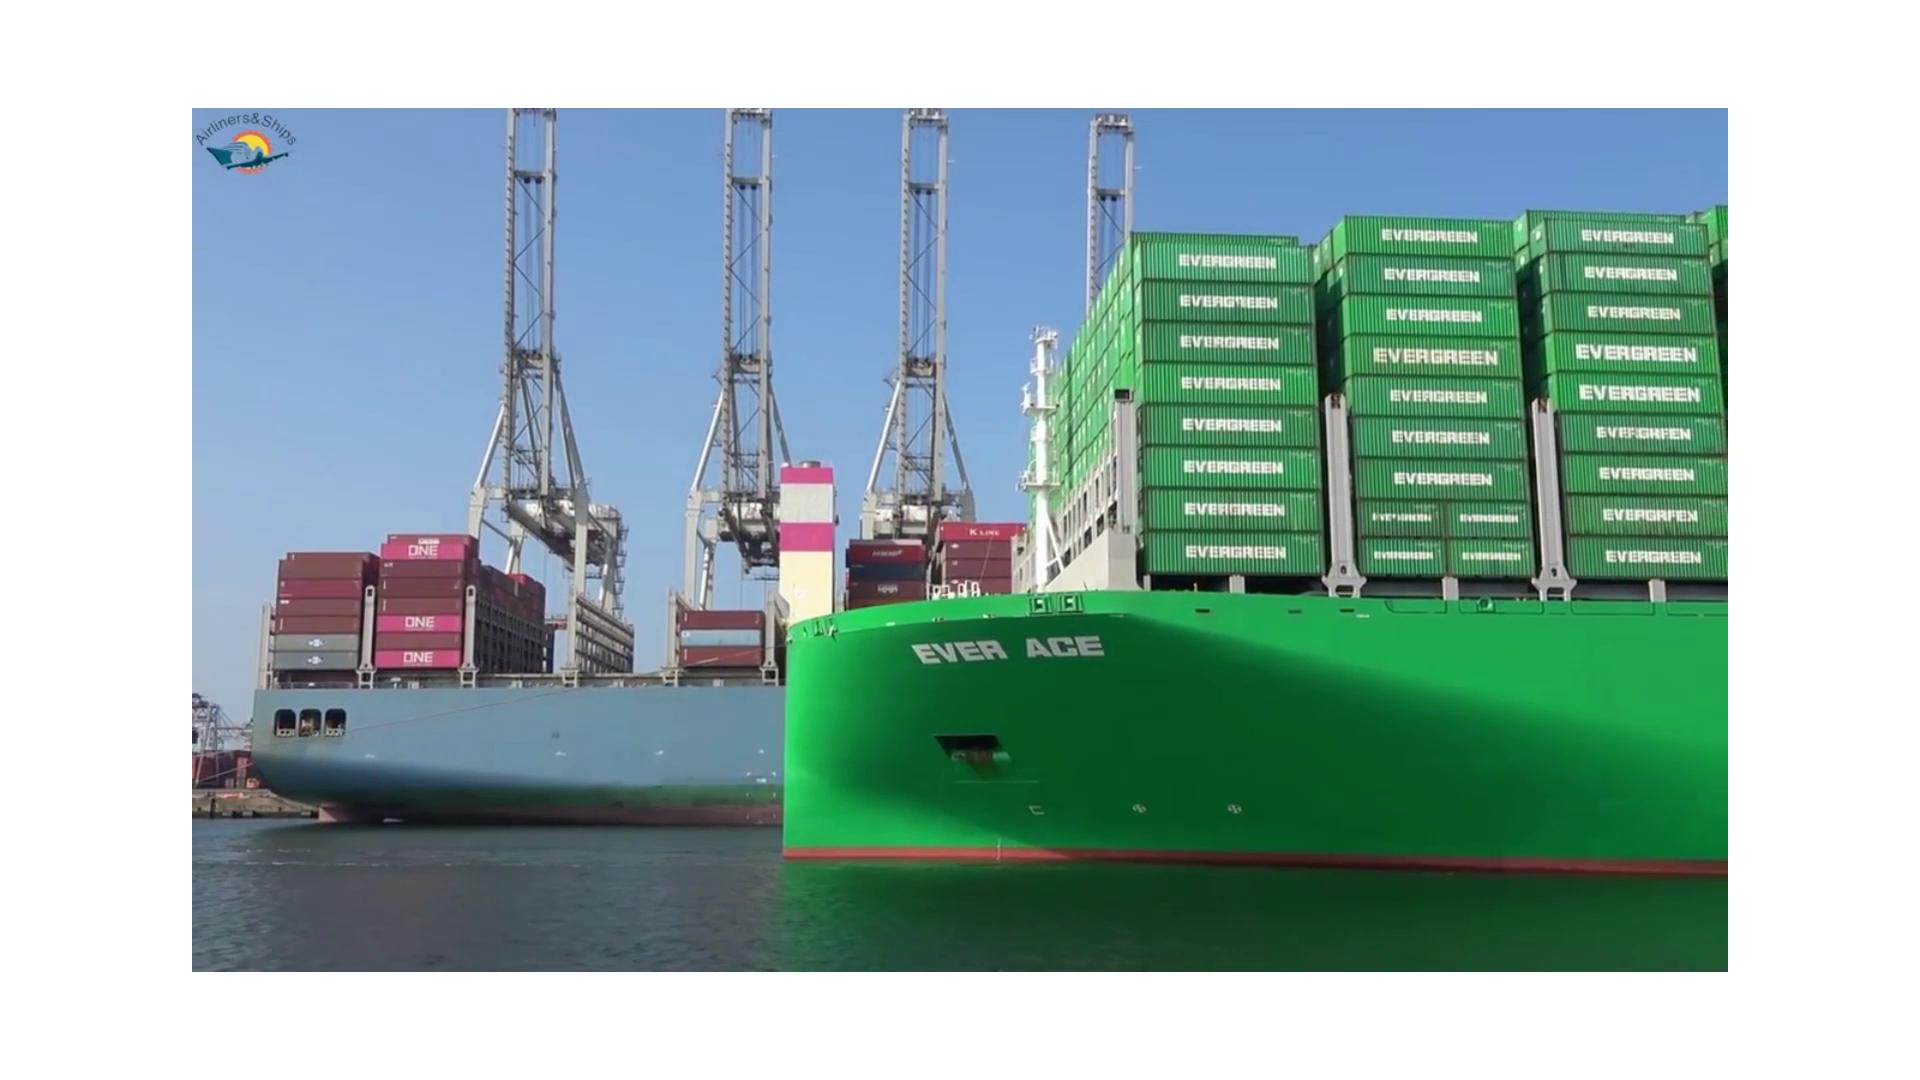OCR: (881, 611, 1146, 690)
